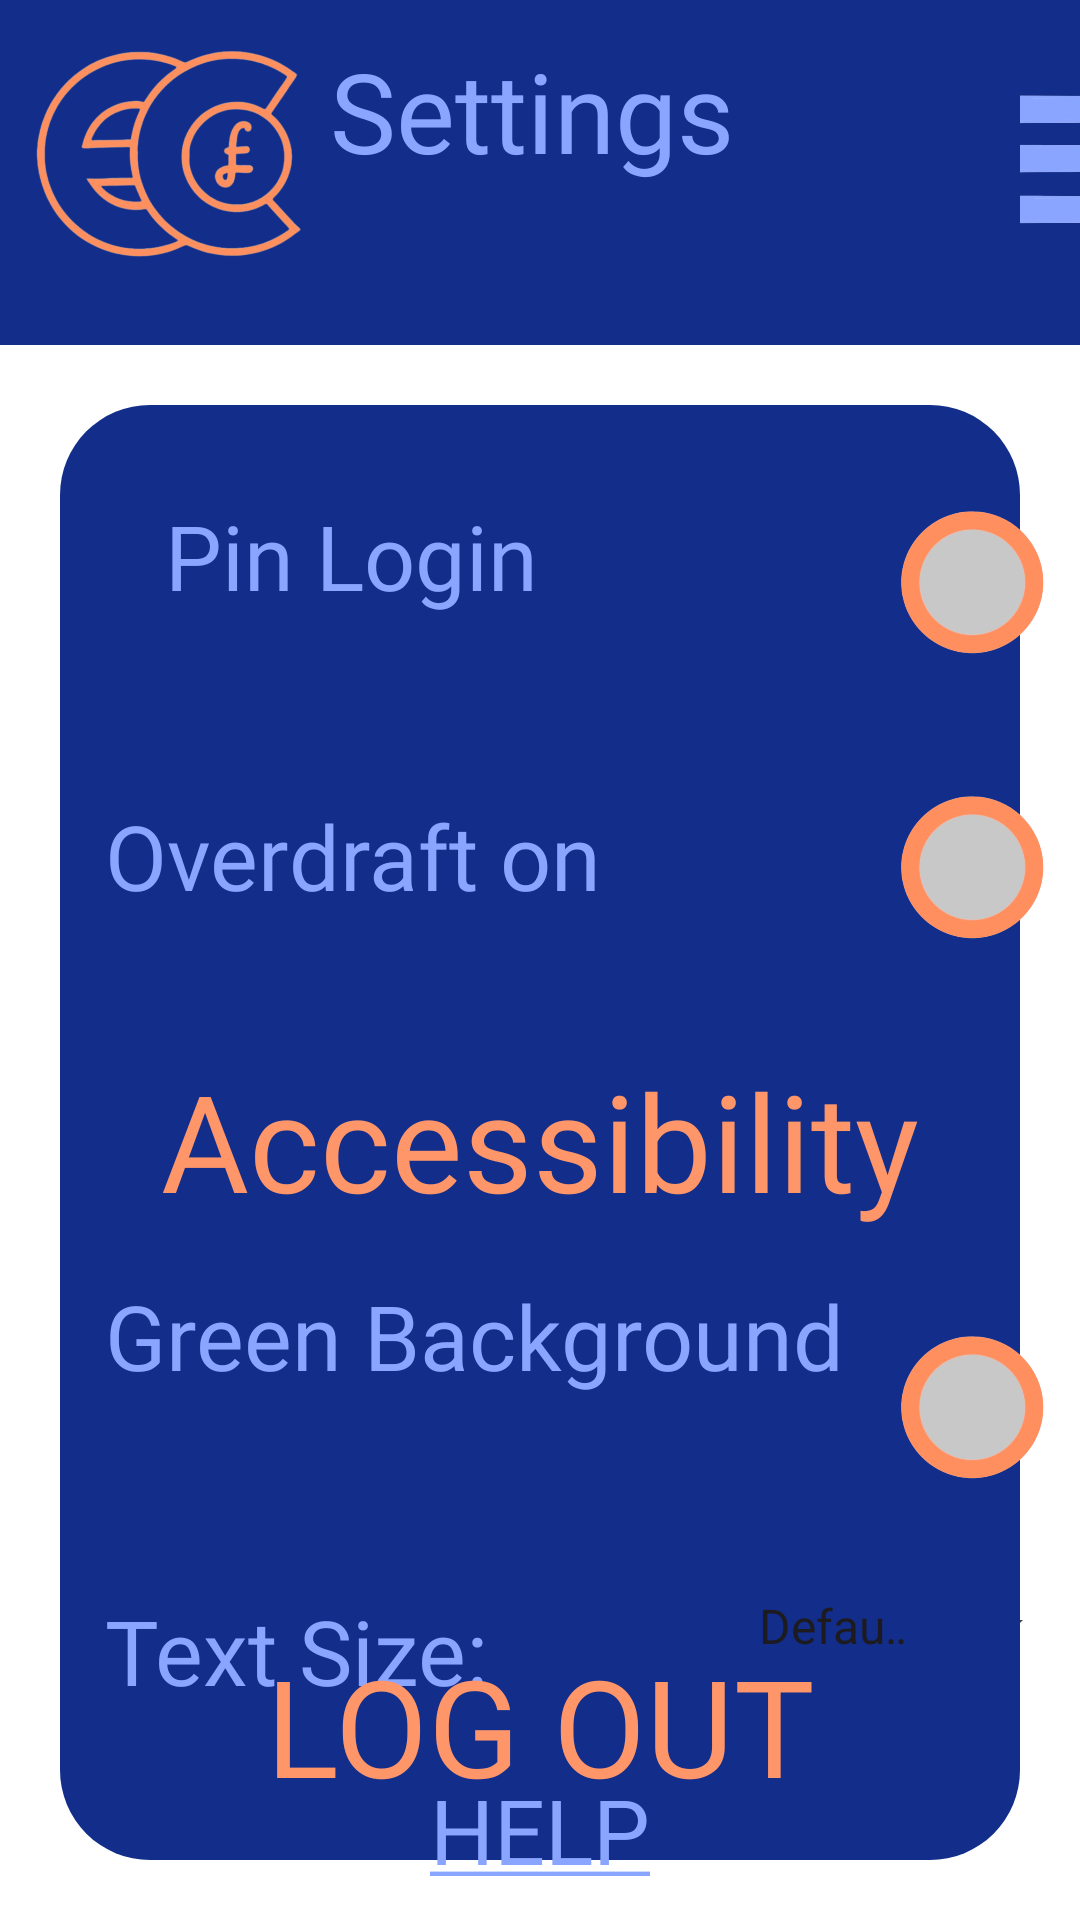

Where to tap for icons on this 1080 x 1920 app screen, as (x,y):
menu: (1050,159)
offbutton: (972,582), (972,867), (972,1407)
